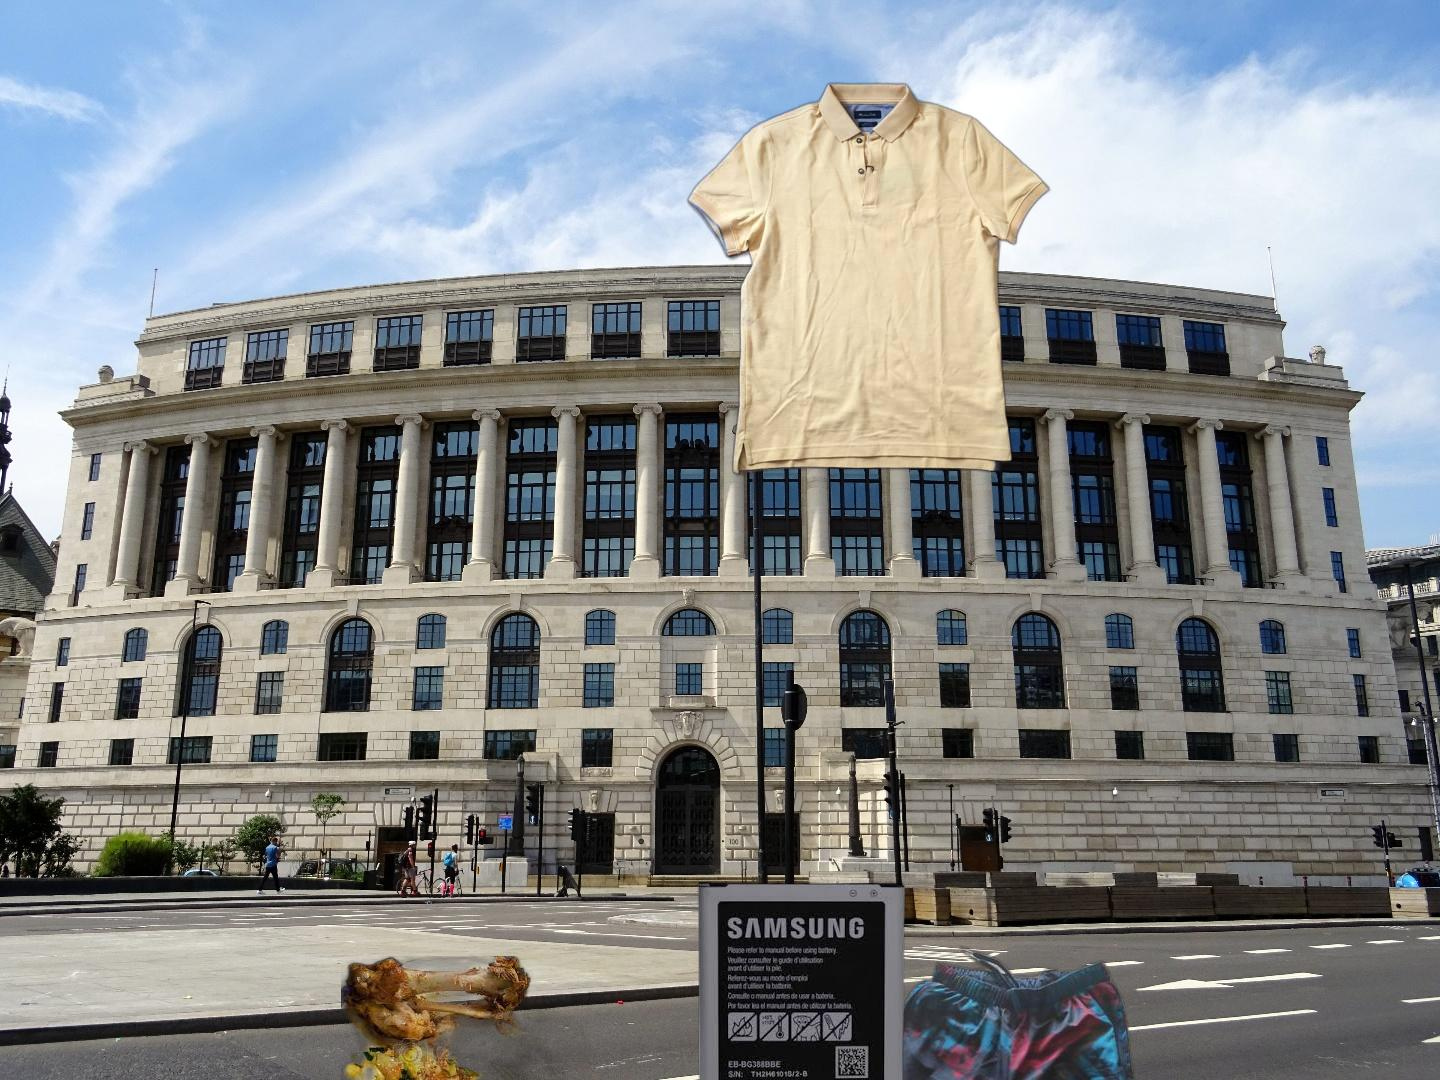battery: (695, 880, 914, 1080)
biological: (341, 956, 591, 1080)
clothes: (684, 79, 1056, 479), (813, 942, 1213, 1080)
